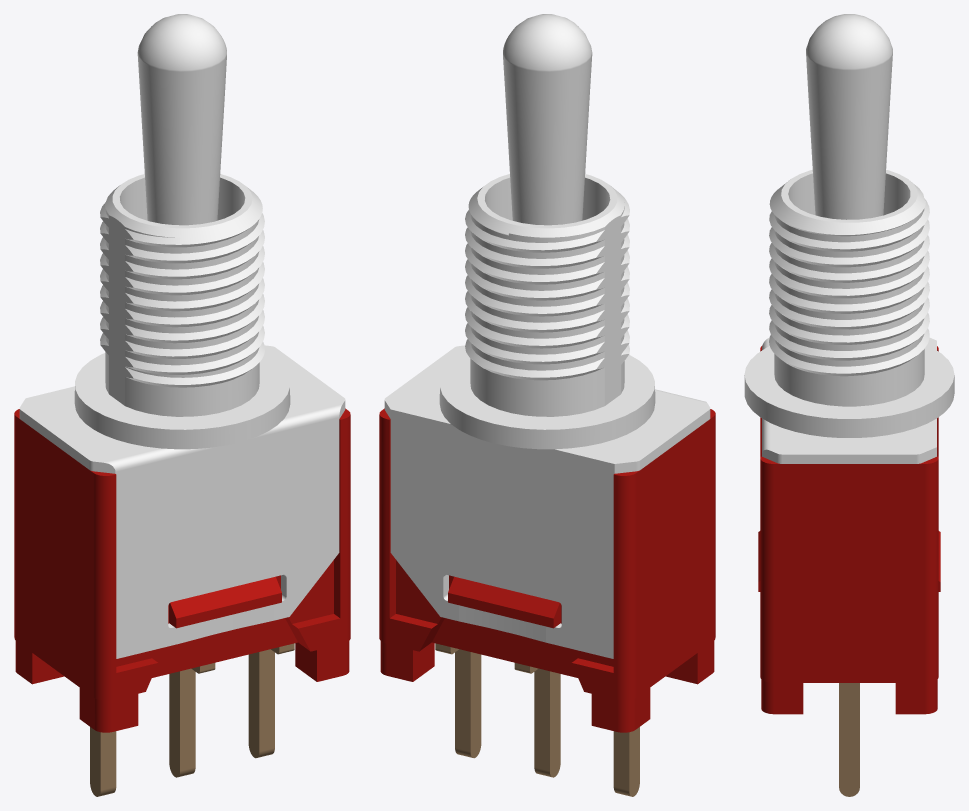
File: switch_toggle_sub-mini_SPDT_threeway_shortlever.glb
The picture shows the model from 3 angles, left to right: view 1: azimuth 30°, elevation 25°; view 2: azimuth 150°, elevation 25°; view 3: azimuth 270°, elevation 25°; orthographic projection. The views are drawn at different scales.
Parts seen in each view (by area): view 1: Solid2, Solid1, Solid3; view 2: Solid2, Solid1, Solid3; view 3: Solid2, Solid1, Solid3.
Part boxes in pixels (x1,y1,x2,y2): Solid2: [19, 14, 345, 658]; Solid1: [14, 408, 350, 732]; Solid3: [90, 643, 294, 796]; Solid2: [384, 14, 710, 658]; Solid1: [379, 408, 715, 732]; Solid3: [435, 643, 639, 796]; Solid2: [744, 14, 954, 463]; Solid1: [758, 346, 940, 714]; Solid3: [839, 683, 859, 796].
Bounding box in the file's own units: 0.0082 × 0.0232 × 0.006.
